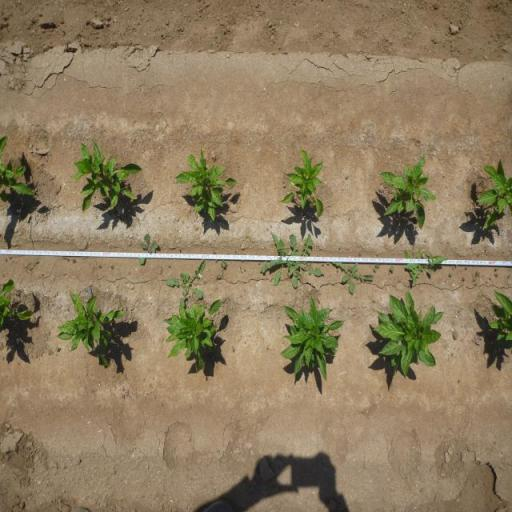plant: (368, 288, 445, 379), (278, 294, 344, 385), (58, 287, 126, 370), (70, 137, 140, 213), (172, 146, 238, 224), (377, 153, 437, 232), (160, 300, 222, 374), (277, 146, 327, 219), (474, 157, 512, 230), (0, 135, 38, 207), (0, 277, 37, 332), (488, 289, 512, 350)
weed: (258, 232, 295, 288), (289, 232, 323, 290), (164, 261, 207, 302), (404, 249, 446, 287), (332, 261, 374, 296), (137, 232, 160, 266), (372, 263, 382, 274), (388, 265, 394, 276), (220, 259, 227, 268), (471, 278, 478, 286), (474, 270, 480, 278), (460, 275, 466, 282), (54, 346, 60, 352), (216, 274, 222, 280), (72, 256, 76, 264), (231, 345, 235, 353), (495, 265, 500, 271), (450, 271, 452, 278)
